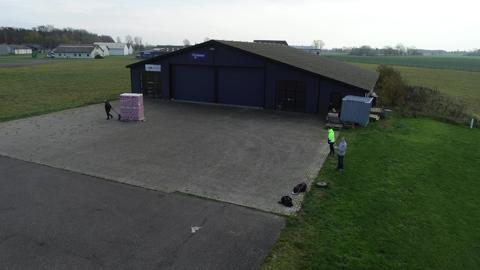RockwoolPallet: (119, 93, 145, 122)
